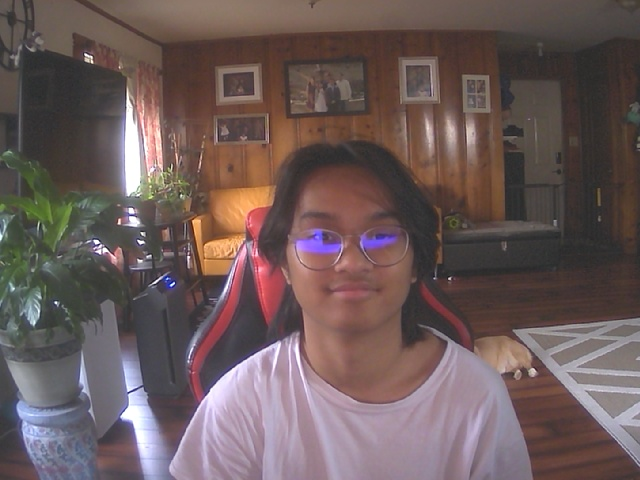happy: (271, 153, 426, 330)
